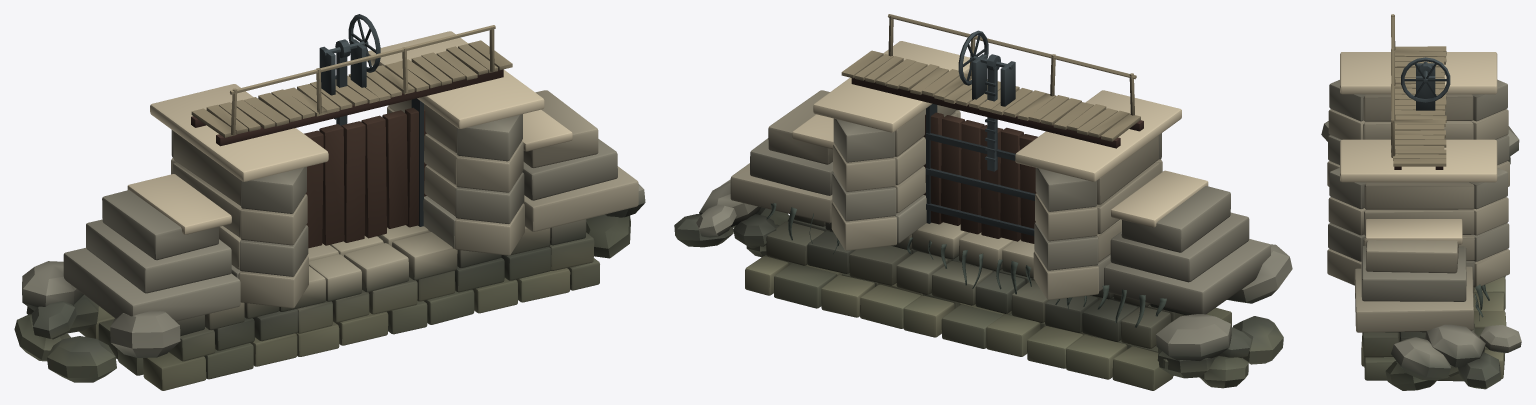
Rendered from weir.glb.
The picture shows the model from 3 angles, left to right: view 1: azimuth 30°, elevation 25°; view 2: azimuth 150°, elevation 25°; view 3: azimuth 270°, elevation 25°; orthographic projection. The views are drawn at different scales.
Visible parts, largest first — view 1: weir; view 2: weir; view 3: weir.
Part boxes in pixels (bbox=[...]): weir: bbox=[14, 14, 645, 390]; weir: bbox=[674, 14, 1292, 390]; weir: bbox=[1321, 14, 1521, 390].
Size of the model in its own units: 12.57 by 5.82 by 4.34.
